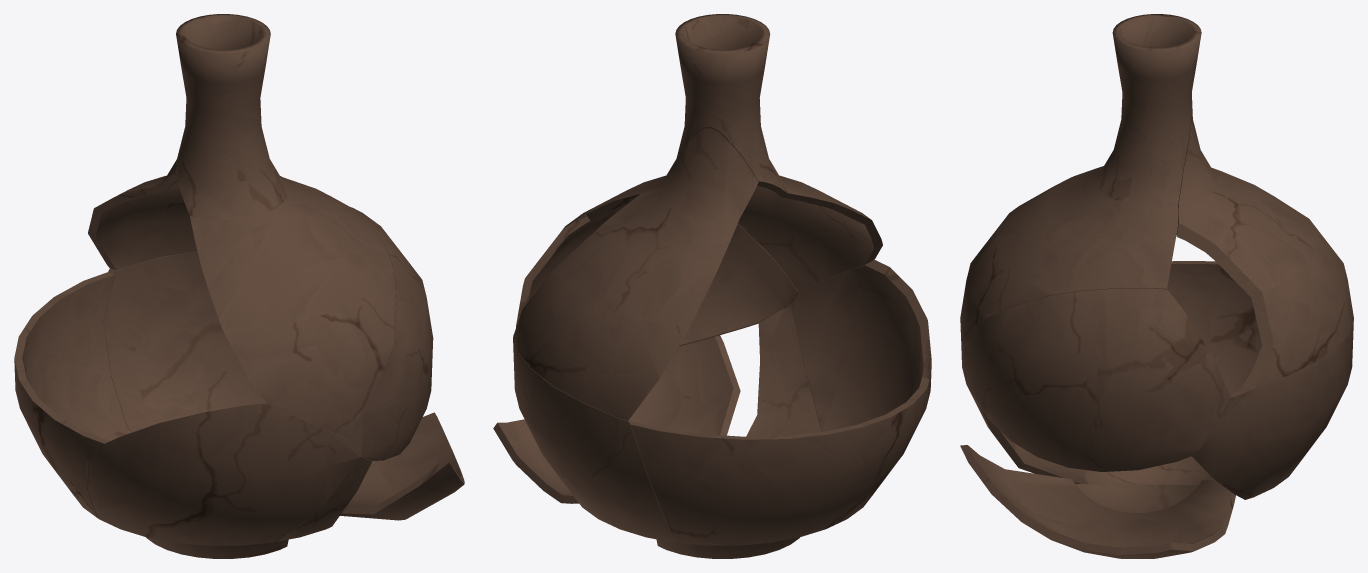
The model's file is Jarrón II Roto.fbx.
The picture shows the model from 3 angles, left to right: view 1: azimuth 30°, elevation 25°; view 2: azimuth 150°, elevation 25°; view 3: azimuth 270°, elevation 25°; orthographic projection. The views are drawn at different scales.
Parts seen in each view (by area): view 1: Jarrón II Roto; view 2: Jarrón II Roto; view 3: Jarrón II Roto.
Boxes of the visible parts, x1,y1,x2,y2 form: Jarrón II Roto: (14, 14, 464, 558); Jarrón II Roto: (493, 14, 931, 558); Jarrón II Roto: (960, 14, 1353, 558).
Bounding box in the file's own units: 214 × 251 × 194.
Materials: 1 (1 with a texture image).
